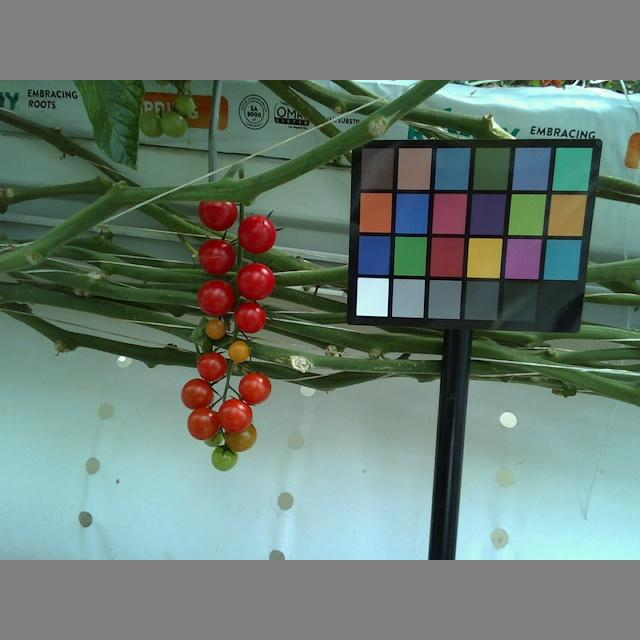green: (211, 447, 243, 473), (160, 112, 188, 138), (139, 111, 164, 139), (176, 91, 197, 116)
pink: (223, 420, 259, 454), (204, 317, 227, 340), (227, 340, 249, 364)
red: (197, 193, 239, 233), (234, 261, 276, 301), (197, 278, 236, 319), (238, 216, 277, 252), (220, 394, 254, 435), (199, 236, 235, 274), (187, 408, 222, 442), (179, 379, 215, 412), (237, 372, 272, 403), (195, 351, 228, 382), (235, 304, 267, 334)
